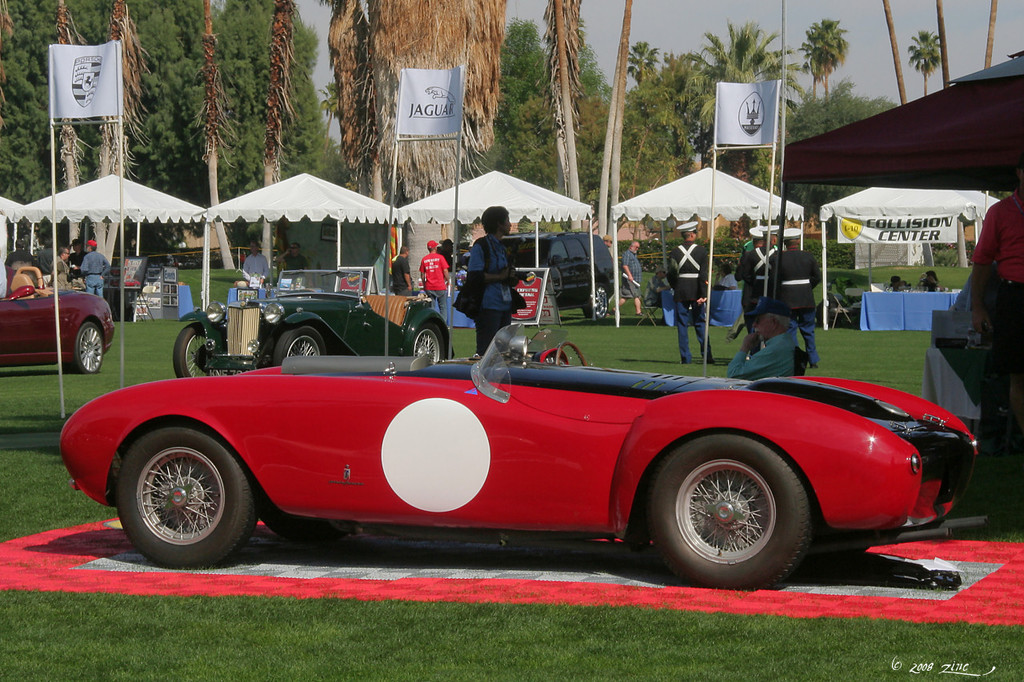Car: (41, 315, 1011, 595), (175, 274, 447, 381), (499, 229, 620, 319), (0, 282, 114, 372)
